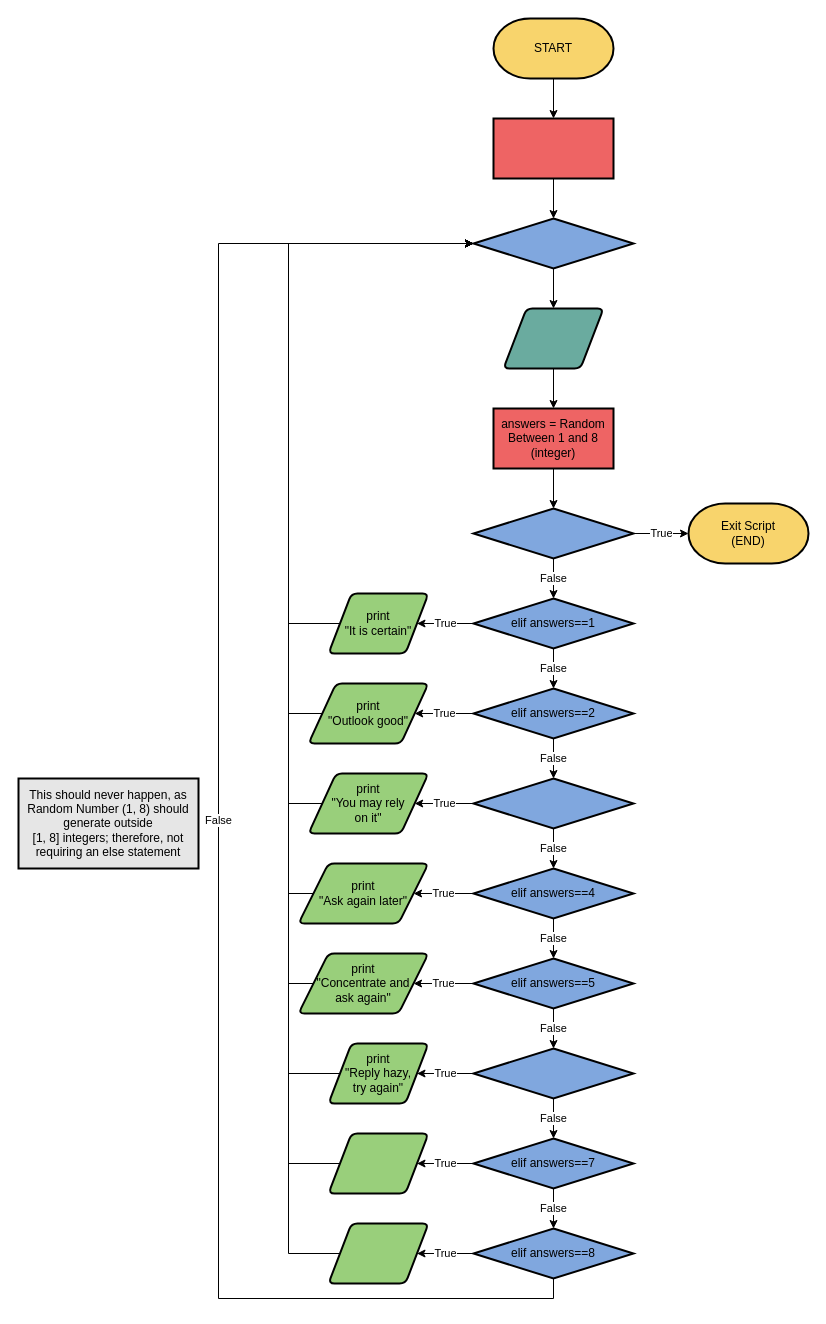
Some shapes in this 826 by 1324 pixel diagram are drawn without their labels. The box of each missing label's shape, as (x1, y1, x2, y2) in pixels:
ans = True: (492, 117, 614, 179)
elif answers==3: (472, 777, 634, 829)
elif answers==6: (472, 1047, 634, 1099)
if question is blank: (472, 507, 634, 559)
print "My reply is no": (327, 1132, 429, 1194)
print "My sources say no": (327, 1222, 429, 1284)
question =input: (502, 307, 604, 369)
while ans: (472, 217, 634, 269)
